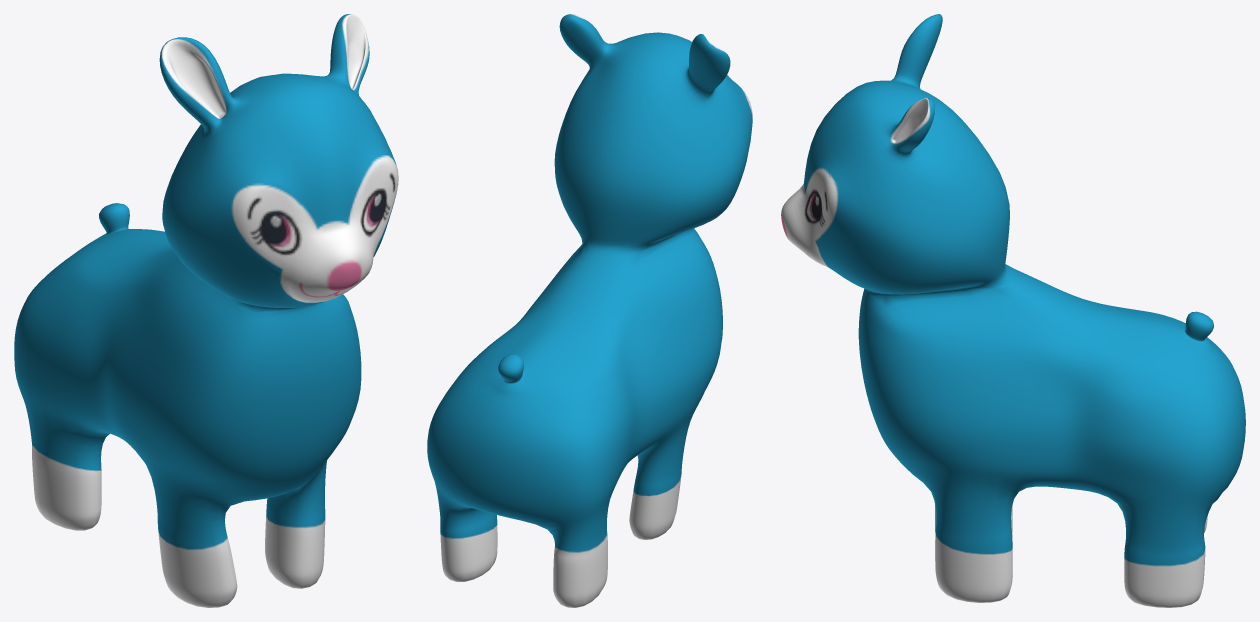
File: cindy.fbx
3 renders of one model, left to right at view 1: azimuth 30°, elevation 25°; view 2: azimuth 150°, elevation 25°; view 3: azimuth 270°, elevation 25°, orthographic. The views are drawn at different scales.
Parts seen in each view (by area): view 1: Cube; view 2: Cube; view 3: Cube.
Boxes of the visible parts, left/top/right/bottom form: Cube: left=14, top=14, right=398, bottom=607; Cube: left=427, top=14, right=752, bottom=607; Cube: left=781, top=14, right=1245, bottom=607.
Size of the model in its own units: 163 by 433 by 349.
Materials: 1 (1 with a texture image).
